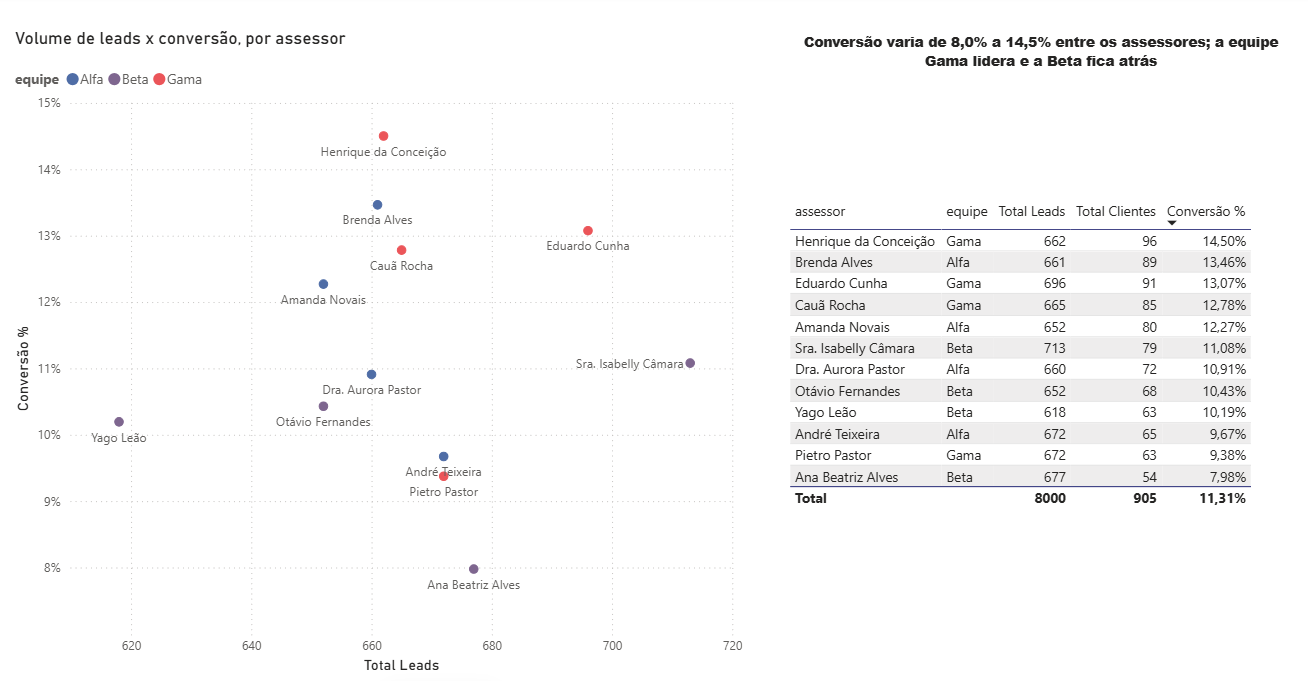

Layout of this report page (visuals, bound fields, positions):
{"tool":"powerbi","page":{"name":"4. Assessores","canvas":[1280,720],"ordinal":3},"visuals":[{"type":"tableEx","fields":{"Values":["Leads_Detalhe.assessor","Leads_Detalhe.equipe","Leads_Detalhe.Total Leads","Leads_Detalhe.Total Clientes","Calendario.Conversão %"]},"box":[767.1,196.2,500.9,326.6],"z":0},{"type":"scatterChart","title":"Volume de leads x conversão, por assessor","fields":{"X":["Leads_Detalhe.Total Leads"],"Y":["Calendario.Conversão %"],"Category":["Leads_Detalhe.assessor"],"Series":["Leads_Detalhe.equipe"]},"box":[9.6,31.6,721.8,636.7],"z":1000},{"type":"textbox","box":[768.4,31.6,500.9,68.6],"z":1001},{"type":"textbox","box":[768,523,501,150],"z":1002}]}

Visuals, with their boxes on the page's 1280x720 design canvas (x1, y1, x2, y2). These are canvas units, not pixel positions in the 1308x681 screenshot, which may show the page scaled, cropped or inside an application window:
tableEx - Leads_Detalhe.assessor x Leads_Detalhe.equipe: BBox(767, 196, 1268, 523)
"Volume de leads x conversão, por assessor" scatterChart: BBox(10, 32, 731, 668)
textbox: BBox(768, 32, 1269, 100)
textbox: BBox(768, 523, 1269, 673)
